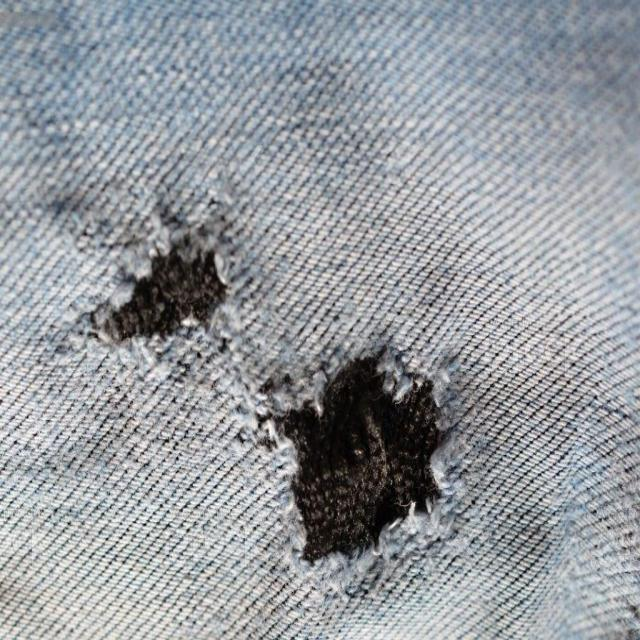Hole: (268, 348, 460, 564), (92, 244, 226, 345)
